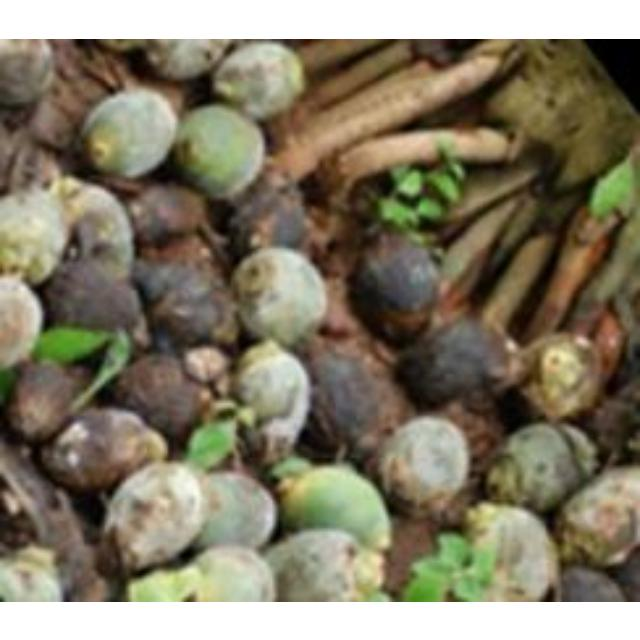damaged: (101, 459, 209, 573), (397, 316, 517, 412), (302, 343, 400, 459), (334, 236, 440, 338), (276, 462, 394, 550), (377, 414, 473, 518), (232, 246, 326, 346), (44, 254, 146, 344), (113, 351, 210, 445), (172, 104, 266, 198), (82, 88, 178, 178), (190, 471, 280, 553), (213, 40, 305, 120), (227, 171, 309, 257)
